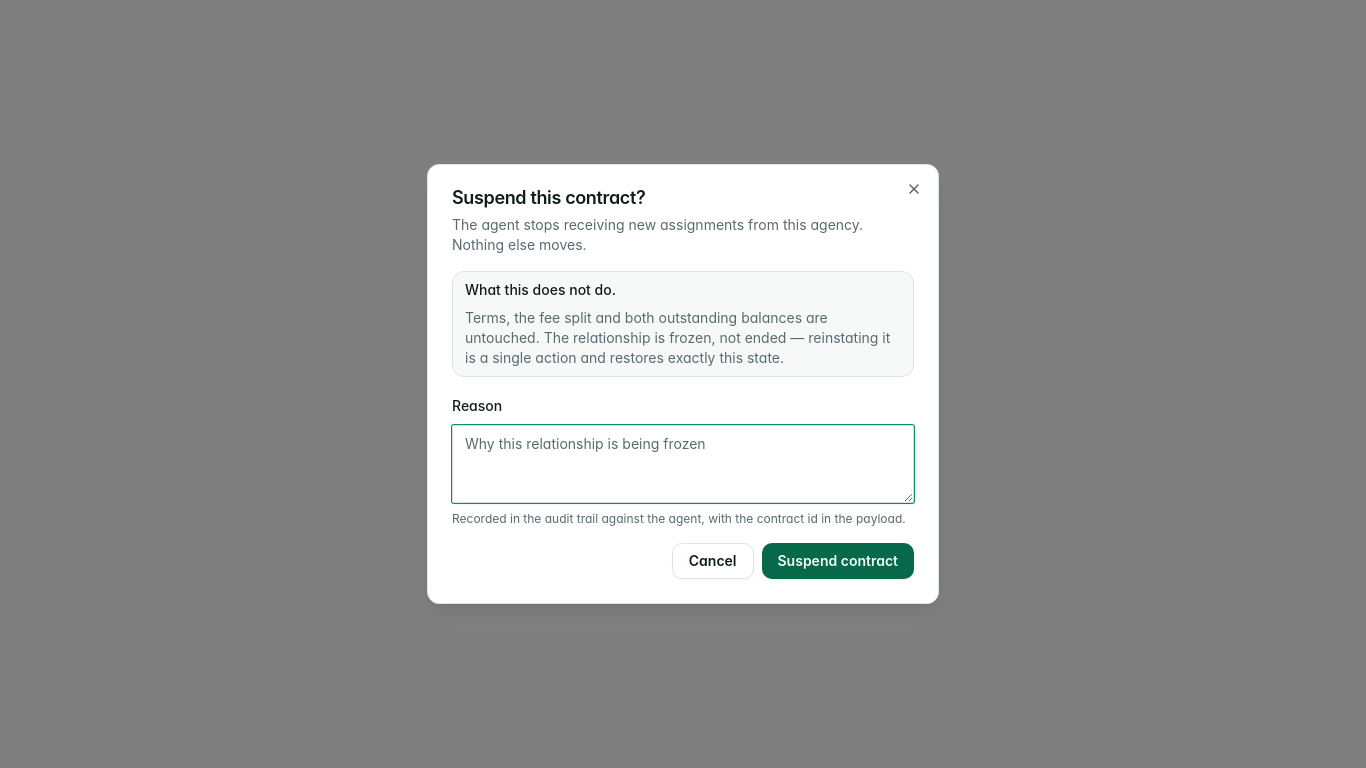
Test case: a forwarded 403 › leaves wi-admin’s own permission denial alone
Type "the agency has been withholding assignments" into the text box. click: (683, 464)
box: [452, 425, 914, 503]
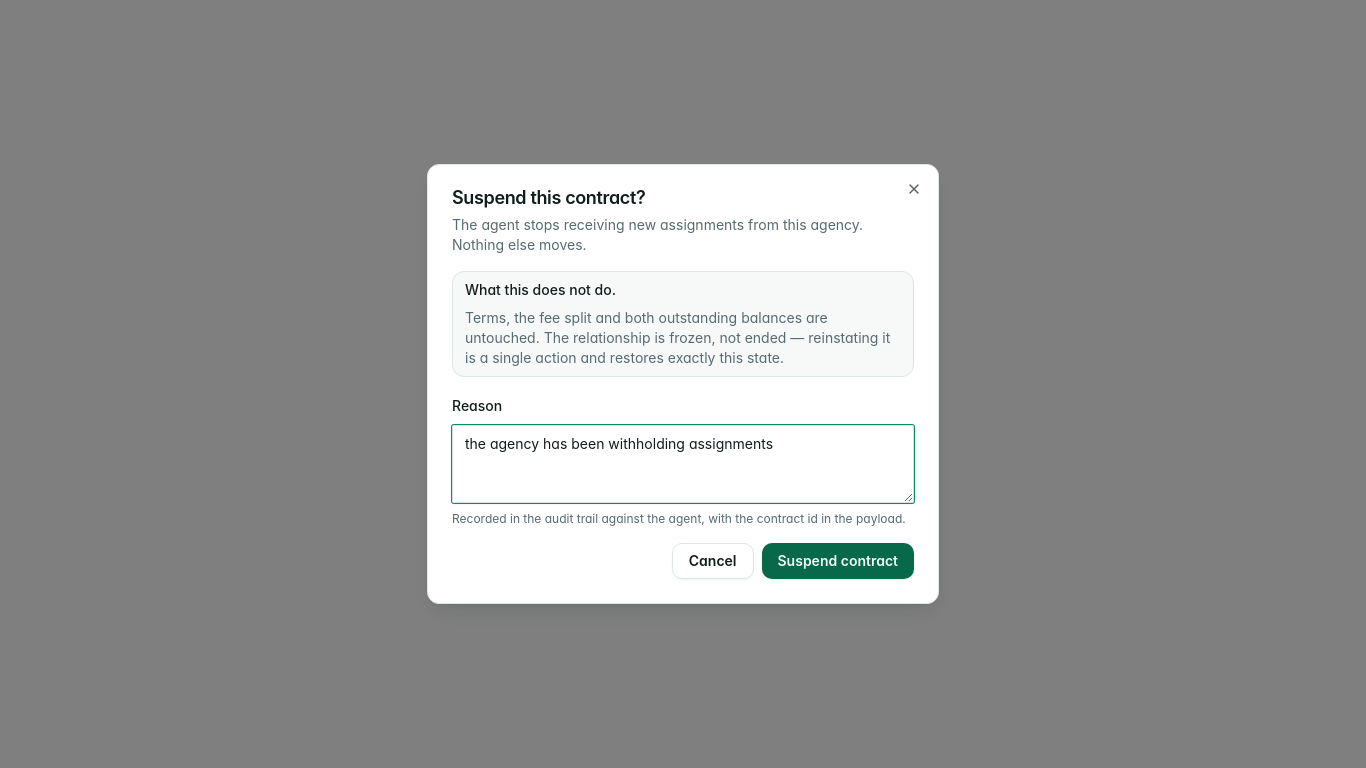
Click the button "Suspend contract". click: (838, 561)
box: [762, 543, 914, 579]
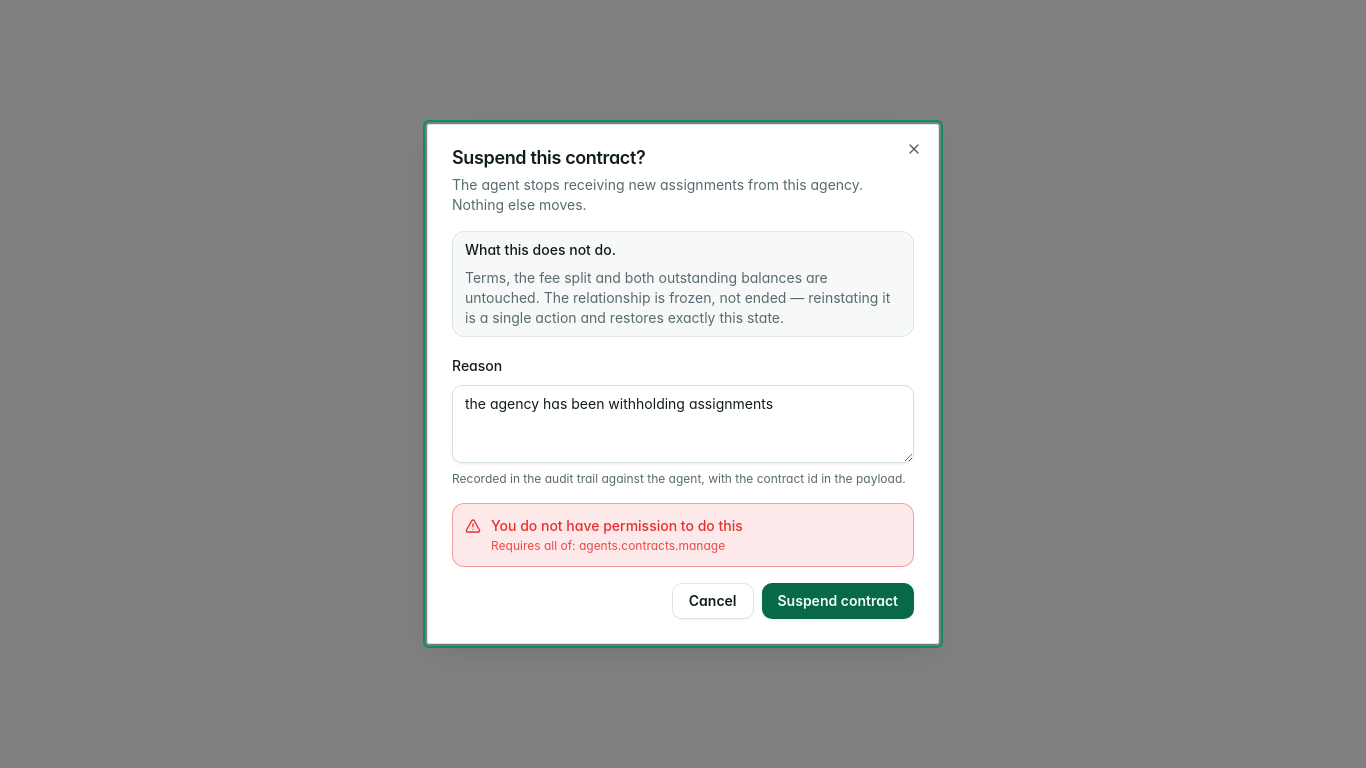
Expected: the message "You do not have permission to do this Requires all of: agents.contracts.manage" is shown, [452, 503, 914, 567]
